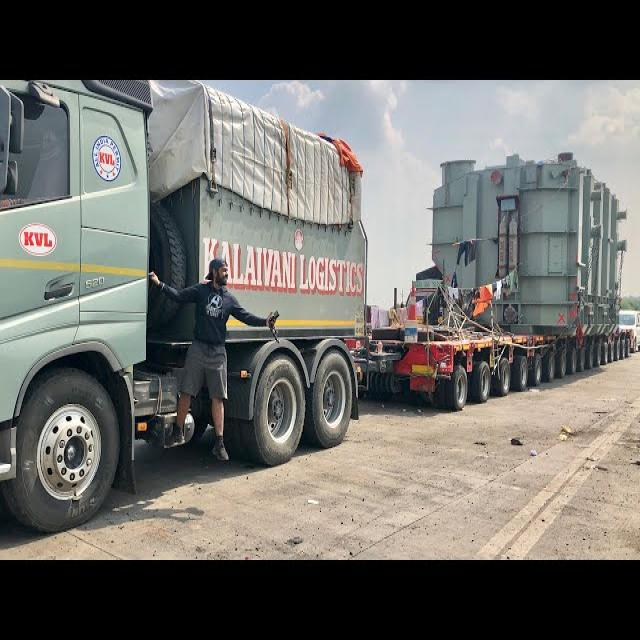truck: (0, 82, 366, 531)
